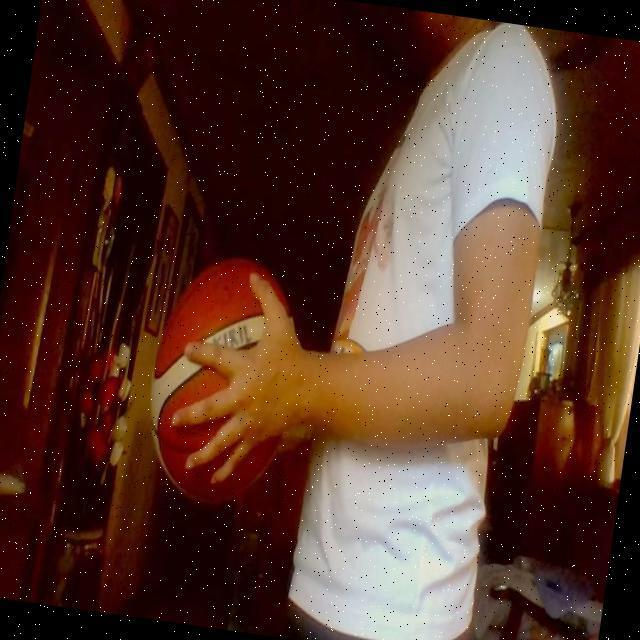ball: (151, 259, 297, 504)
